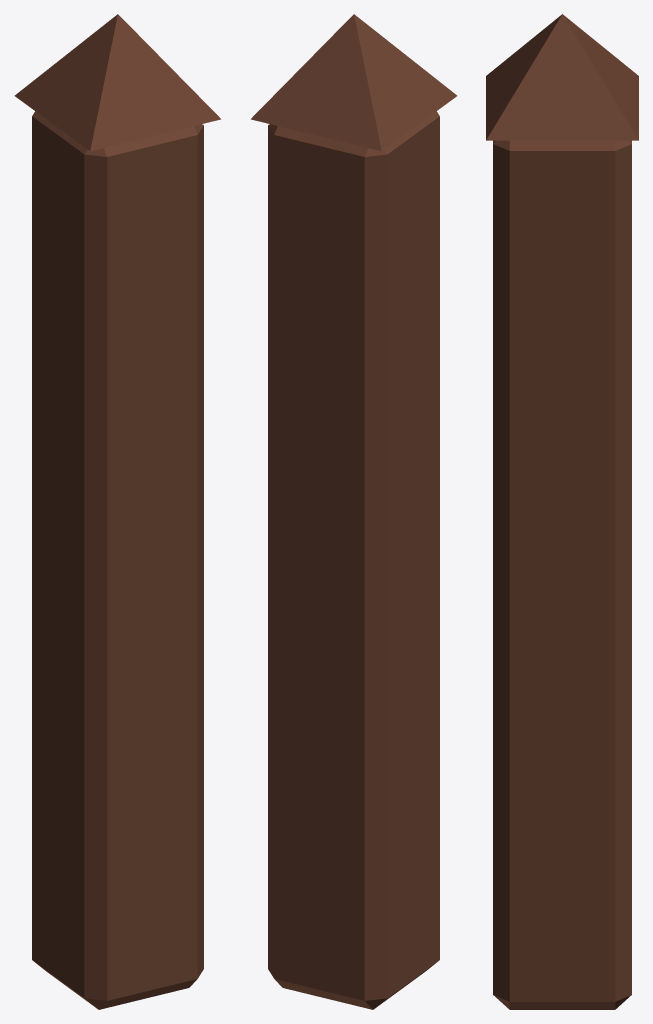
Rendered from Fence_Wood_Post.fbx.
3 renders of one model, left to right at view 1: azimuth 30°, elevation 25°; view 2: azimuth 150°, elevation 25°; view 3: azimuth 270°, elevation 25°, orthographic.
Visible parts, largest first — view 1: Fence_Wood_Post; view 2: Fence_Wood_Post; view 3: Fence_Wood_Post.
Part boxes in pixels (x1=…): Fence_Wood_Post: x1=14, y1=14, x2=220, y2=1009; Fence_Wood_Post: x1=251, y1=14, x2=457, y2=1009; Fence_Wood_Post: x1=486, y1=14, x2=638, y2=1009.
Bounding box in the file's own units: 0.1817 × 1.28 × 0.1817.
